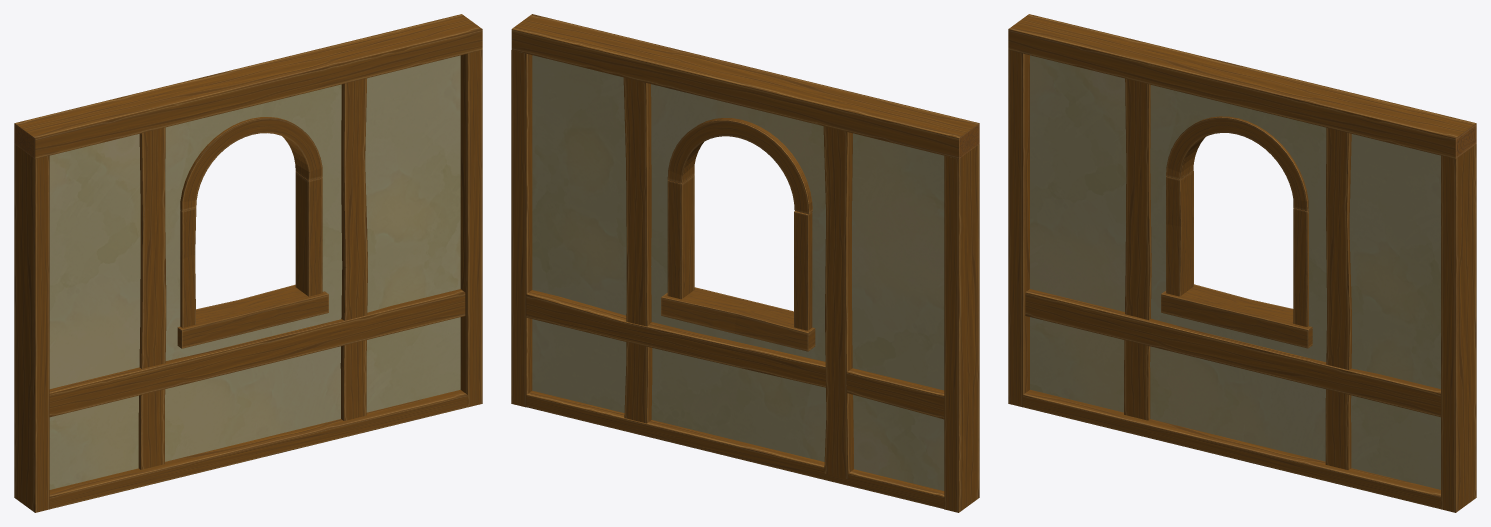
File: SM_House_Wall_5x4_Window_C_01.fbx
3 views of the same model, side by side, from view 1: azimuth 30°, elevation 25°; view 2: azimuth 150°, elevation 25°; view 3: azimuth 330°, elevation 25° (orthographic).
Visible parts, largest first — view 1: SM_House_Wall_5x4_Window_C_01; view 2: SM_House_Wall_5x4_Window_C_01; view 3: SM_House_Wall_5x4_Window_C_01.
Boxes of the visible parts, left/top/right/bottom form: SM_House_Wall_5x4_Window_C_01: left=14, top=14, right=482, bottom=512; SM_House_Wall_5x4_Window_C_01: left=511, top=14, right=979, bottom=512; SM_House_Wall_5x4_Window_C_01: left=1008, top=14, right=1476, bottom=512.
Size of the model in its own units: 5 by 4 by 0.4216.
